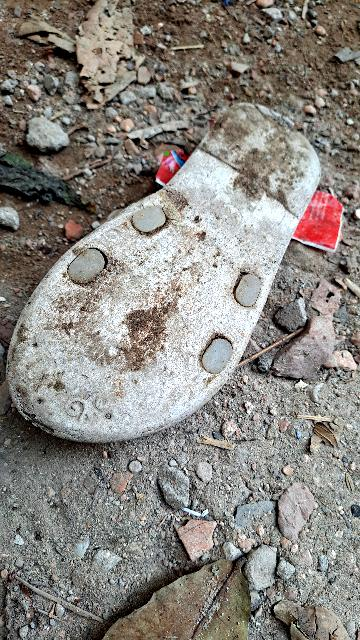sandal: (0, 66, 360, 494)
